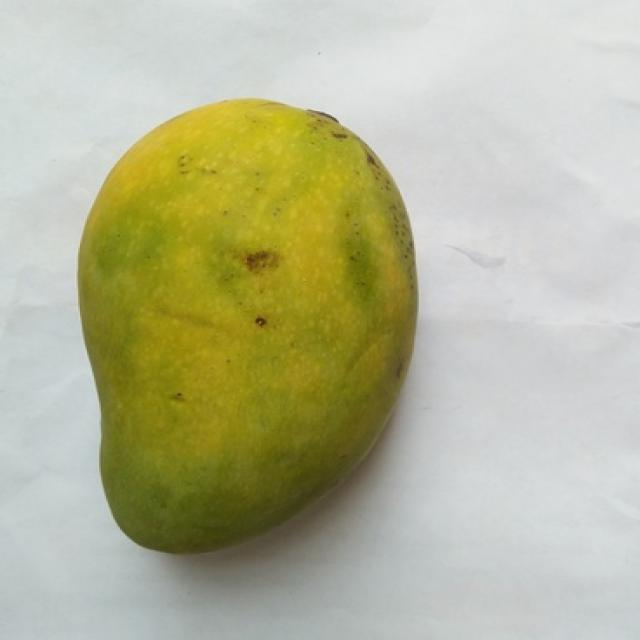Mango: (78, 100, 416, 552)
